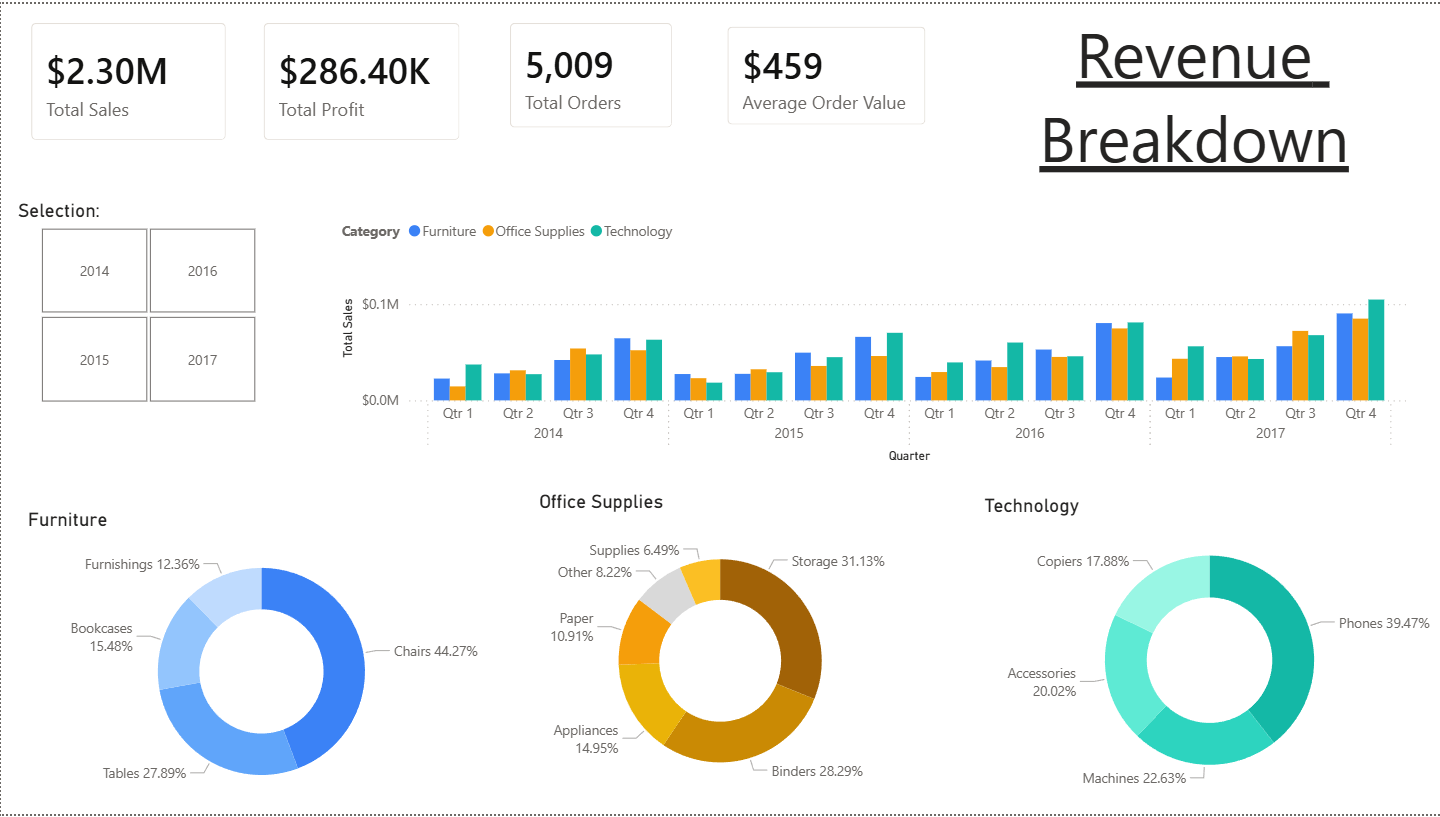

Layout of this report page (visuals, bound fields, positions):
{"tool":"powerbi","page":{"name":"Revenue","canvas":[1280,720],"ordinal":0},"visuals":[{"type":"cardVisual","fields":{"Data":["_Measures.Total Sales"]},"box":[10,0,207,138],"z":0},{"type":"cardVisual","fields":{"Data":["_Measures.Total Profit"]},"box":[217,0,208,138],"z":1000},{"type":"cardVisual","fields":{"Data":["_Measures.Total Orders"]},"box":[436,0,178,127],"z":2000},{"type":"cardVisual","fields":{"Data":["_Measures.Average Order Value"]},"box":[629,3,210,121],"z":3000},{"type":"slicer","title":"Selection:","fields":{"Values":["dOrder_Date.Date.Variation.Date Hierarchy.Year"]},"box":[10,173.3,240,186.7],"z":4000},{"type":"donutChart","title":"Furniture","fields":{"Y":["_Measures.Total Sales"],"Category":["dProduct.Sub_Category"]},"box":[18.9,447.8,425.6,272.2],"z":5000},{"type":"donutChart","title":"Technology","fields":{"Category":["dProduct.Sub_Category"],"Y":["_Measures.Total Sales"]},"box":[868.9,435.6,411.1,276.7],"z":6000},{"type":"textbox","box":[850,0,421.1,162.2],"z":7000},{"type":"clusteredColumnChart","fields":{"Y":["_Measures.Total Sales"],"Category":["dOrder_Date.Date.Variation.Date Hierarchy.Year","dOrder_Date.Date.Variation.Date Hierarchy.Quarter"],"Series":["dProduct.Category"]},"box":[297.8,182.2,958.9,231.1],"z":8000},{"type":"donutChart","title":"Office Supplies","fields":{"Category":["Donut Categories Office Supplies.Sub_Category"],"Y":["_Measures.Office Supplies Donut Sales"]},"box":[473.3,432.2,332.2,284.4],"z":9000}]}

Visuals, with their boxes in screenshot pixels (x1, y1, x2, y2), scaled from the page's 1280x720 canvas onto the 1440x817 screenshot:
cardVisual - _Measures.Total Sales: (11,0,244,157)
cardVisual - _Measures.Total Profit: (244,0,478,157)
cardVisual - _Measures.Total Orders: (490,0,691,144)
cardVisual - _Measures.Average Order Value: (708,3,944,141)
"Selection:" slicer: (11,197,281,408)
"Furniture" donutChart: (21,508,500,816)
"Technology" donutChart: (978,494,1439,808)
textbox: (956,0,1430,184)
clusteredColumnChart - _Measures.Total Sales x dOrder_Date.Date.Variation.Date Hierarchy.Year: (335,207,1414,469)
"Office Supplies" donutChart: (532,490,906,813)
